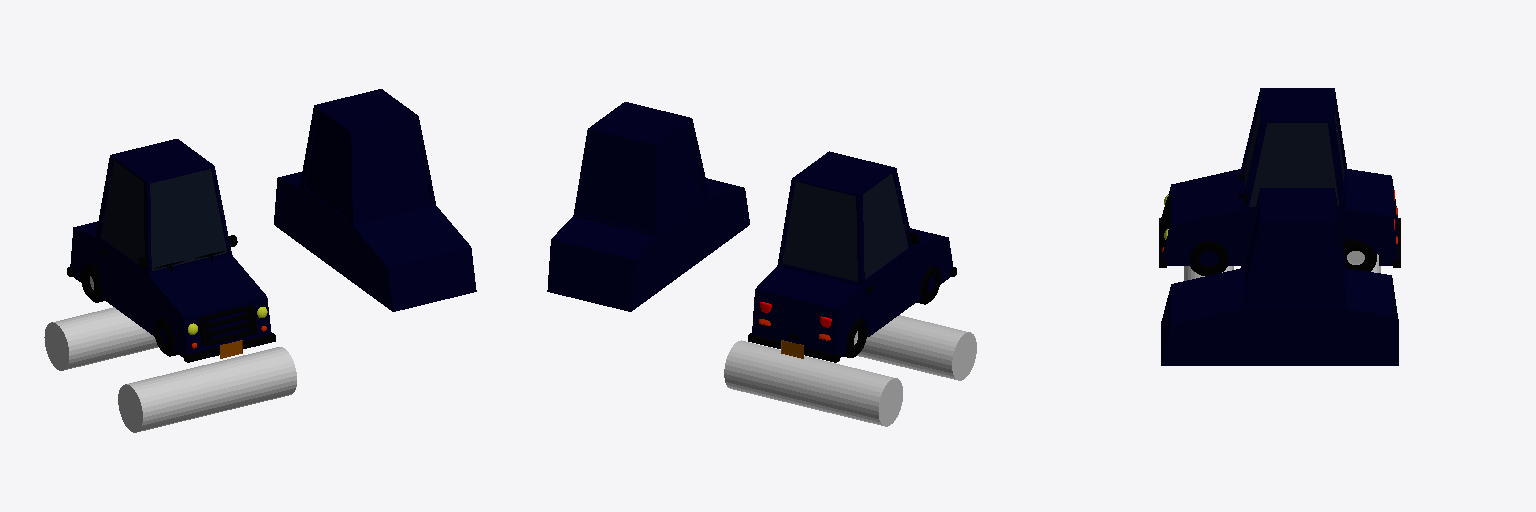
The model's file is LowPolyCar.obj.
The picture shows the model from 3 angles: view 1: azimuth 30°, elevation 25°; view 2: azimuth 150°, elevation 25°; view 3: azimuth 270°, elevation 25°; orthographic projection.
Parts seen in each view (by area): view 1: Cube.004, Cube.010_Cube.011, Circle, Circle.003, Cube.008_Cube.009, Cube.003_Cube.005, Circle.005_Circle.006, Cube.001; view 2: Cube.004, Cube.010_Cube.011, Circle.003, Circle, Cube.009_Cube.008, Circle.005_Circle.006, Cube.002; view 3: Cube.004, Cube.010_Cube.011, Cube.008_Cube.009, Circle.001, Circle.002_Circle.004.
Part boxes in pixels (bbox=[...]): Cube.004: bbox=[274, 89, 476, 311]; Cube.010_Cube.011: bbox=[70, 139, 271, 357]; Circle: bbox=[118, 347, 296, 432]; Circle.003: bbox=[44, 307, 157, 370]; Cube.008_Cube.009: bbox=[161, 263, 260, 316]; Cube.003_Cube.005: bbox=[199, 305, 256, 345]; Circle.005_Circle.006: bbox=[81, 264, 104, 302]; Cube.001: bbox=[184, 333, 275, 362]; Cube.004: bbox=[547, 102, 749, 311]; Cube.010_Cube.011: bbox=[752, 151, 953, 357]; Circle.003: bbox=[724, 340, 902, 426]; Circle: bbox=[857, 315, 976, 380]; Cube.009_Cube.008: bbox=[860, 254, 909, 333]; Circle.005_Circle.006: bbox=[843, 318, 866, 357]; Cube.002: bbox=[748, 333, 839, 362]; Cube.004: bbox=[1161, 188, 1398, 365]; Cube.010_Cube.011: bbox=[1162, 88, 1397, 265]; Cube.008_Cube.009: bbox=[1171, 175, 1230, 221]; Circle.001: bbox=[1190, 241, 1227, 275]; Circle.002_Circle.004: bbox=[1344, 238, 1376, 271].
Size of the model in its own units: 11.86 by 7.74 by 7.74.